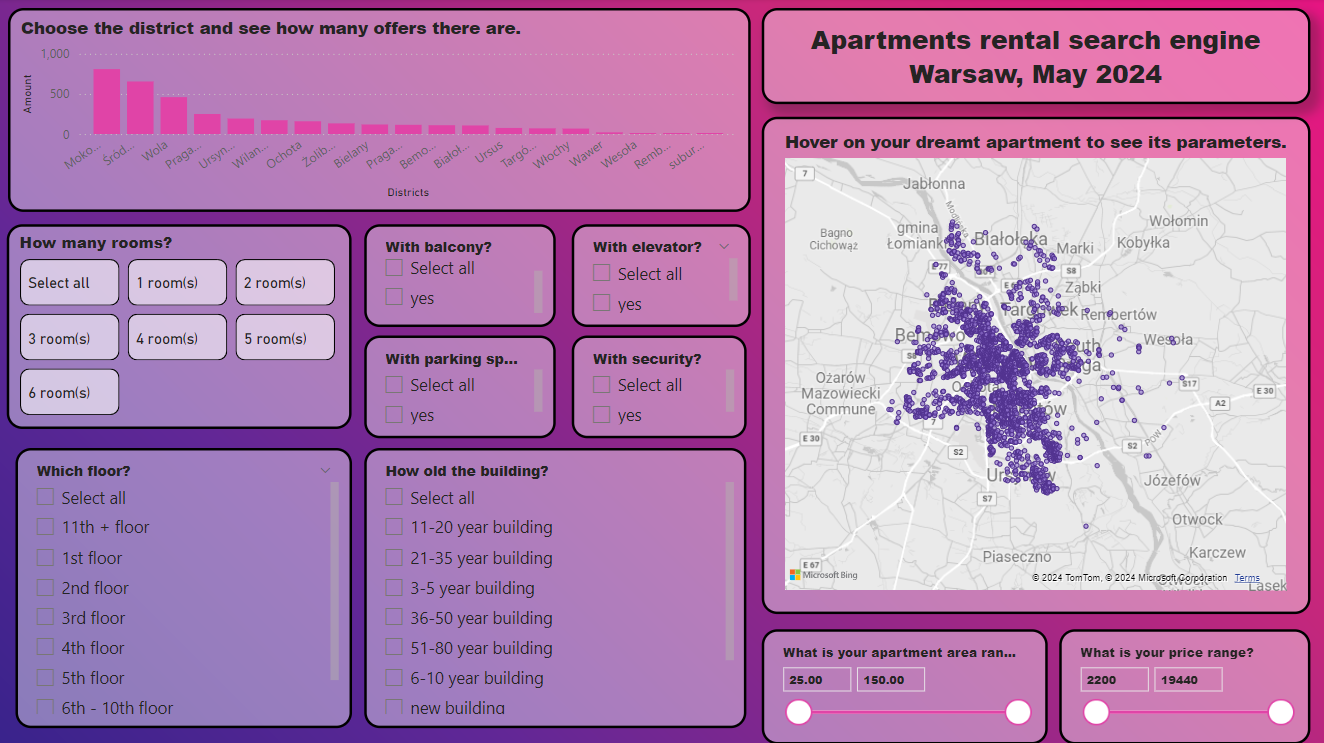

Layout of this report page (visuals, bound fields, positions):
{"tool":"powerbi","page":{"name":"SearchEngine","canvas":[1280,720],"ordinal":0},"visuals":[{"type":"clusteredColumnChart","title":"Choose the district and see how many offers there are.","fields":{"Category":["dim_district.district"],"Y":["CountNonNull(fact_table.id)"]},"box":[9.7,9.7,716.6,196.6],"z":0},{"type":"advancedSlicerVisual","title":"How many rooms?","fields":{"Values":["dim_rooms.Rooms"]},"box":[8.4,218.4,333,197.9],"z":1000},{"type":"slicer","fields":{"Values":["dim_floors.Floor"]},"box":[16.9,434.3,324.5,270.2],"z":2000},{"type":"slicer","fields":{"Values":["fact_table.squareMeters"]},"box":[737.1,609.3,276.3,111],"z":3000},{"type":"textbox","box":[737.1,9.7,529.6,92.9],"z":4000},{"type":"map","title":"Hover on your dreamt apartment to see its parameters.","fields":{"Y":["fact_table.latitude"],"X":["fact_table.longitude"]},"box":[737.1,114.6,529.6,480.2],"z":5000},{"type":"slicer","fields":{"Values":["fact_table.price"]},"box":[1024.3,609.3,242.5,111],"z":6000},{"type":"slicer","fields":{"Values":["dim_age.Age"]},"box":[353.5,434.3,369.2,270.2],"z":7000},{"type":"slicer","fields":{"Values":["dim_balcony.hasBalcony"]},"box":[353.5,218.4,184.6,98.9],"z":8000},{"type":"slicer","fields":{"Values":["dim_elevator.hasElevator"]},"box":[553.8,218.4,172.5,98.9],"z":9000},{"type":"slicer","fields":{"Values":["dim_parking.hasParkingSpace"]},"box":[353.5,325.7,184.6,98.9],"z":10000},{"type":"slicer","fields":{"Values":["dim_security.hasSecurity"]},"box":[553.8,325.7,168.9,98.9],"z":11000}]}

Visuals, with their boxes in screenshot pixels (x1, y1, x2, y2), scaled from the page's 1280x720 canvas onto the 1324x743 screenshot:
"Choose the district and see how many offers there are." clusteredColumnChart: rect(10, 10, 751, 213)
"How many rooms?" advancedSlicerVisual: rect(9, 225, 353, 430)
slicer - dim_floors.Floor: rect(17, 448, 353, 727)
slicer - fact_table.squareMeters: rect(762, 629, 1048, 742)
textbox: rect(762, 10, 1310, 106)
"Hover on your dreamt apartment to see its parameters." map: rect(762, 118, 1310, 614)
slicer - fact_table.price: rect(1060, 629, 1310, 742)
slicer - dim_age.Age: rect(366, 448, 748, 727)
slicer - dim_balcony.hasBalcony: rect(366, 225, 557, 327)
slicer - dim_elevator.hasElevator: rect(573, 225, 751, 327)
slicer - dim_parking.hasParkingSpace: rect(366, 336, 557, 438)
slicer - dim_security.hasSecurity: rect(573, 336, 748, 438)
